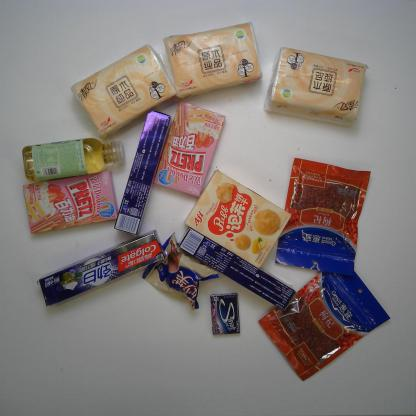Dessert: (182, 166, 293, 274), (150, 98, 225, 200), (16, 170, 122, 241), (138, 224, 222, 308)
Dried Fruit: (254, 263, 393, 382), (272, 154, 374, 279)
Drink: (21, 130, 128, 186)
Gum: (208, 289, 242, 337)
Personal Hygiene: (172, 226, 301, 314), (35, 230, 170, 314), (112, 106, 176, 237)
Tissue: (66, 42, 178, 141), (263, 43, 372, 128), (164, 20, 266, 104)
